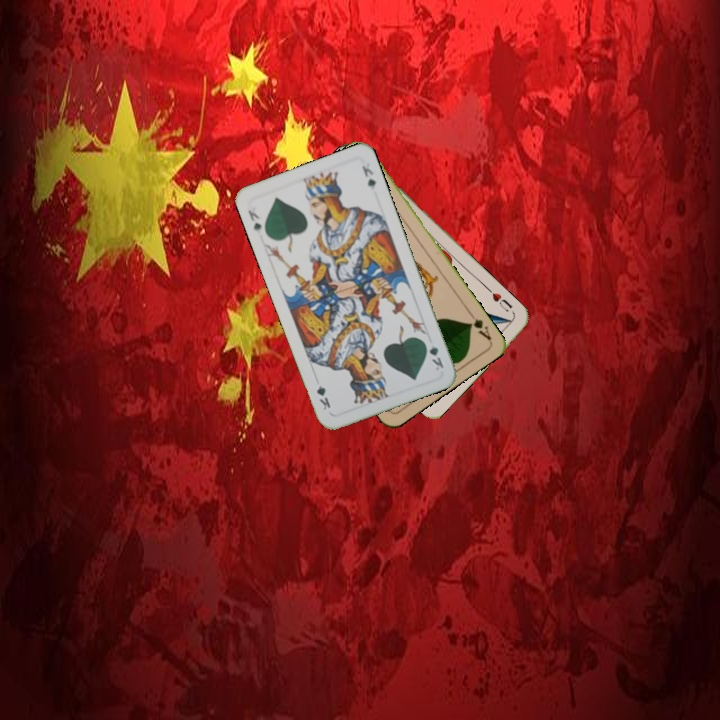GA: (465, 308, 494, 343)
GK: (420, 336, 446, 373), (244, 206, 264, 234)
HU: (488, 289, 515, 314)
